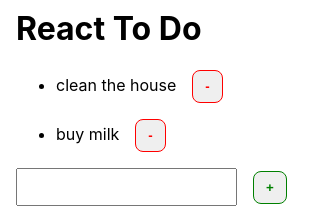
Scenario: <ToDo/> › Deleting items › When the delete button is pressed for the first todo item, it removes the entire item
The width and height of the screenshot is (320, 223).
// default item
Step 1. Click the button "-" next to "clean the house" → click(208, 86), box [192,70,223,103]
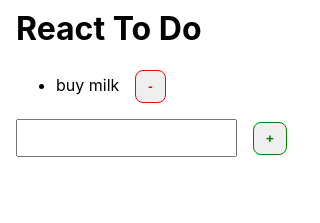
Result: the text "clean the house" is gone
Result: the number of list items is 1 at [56,70,166,103]
